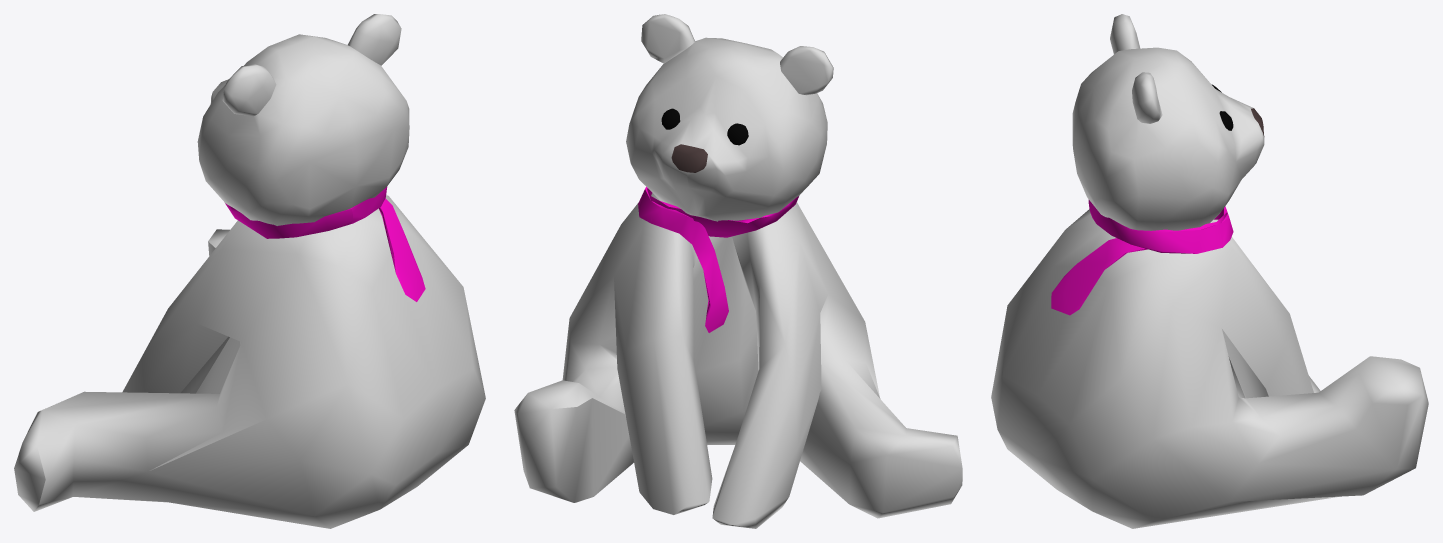
The model's file is BearLarge.fbx.
3 views of the same model, side by side, from view 1: azimuth 30°, elevation 25°; view 2: azimuth 150°, elevation 25°; view 3: azimuth 270°, elevation 25° (orthographic). The views are drawn at different scales.
Parts seen in each view (by area): view 1: BigBear; view 2: BigBear; view 3: BigBear.
Part boxes in pixels (x1,y1,x2,y2): BigBear: (14,14,485,528); BigBear: (514,14,962,528); BigBear: (991,14,1428,528).
Bounding box in the file's own units: 36.01 × 36.16 × 32.95.
